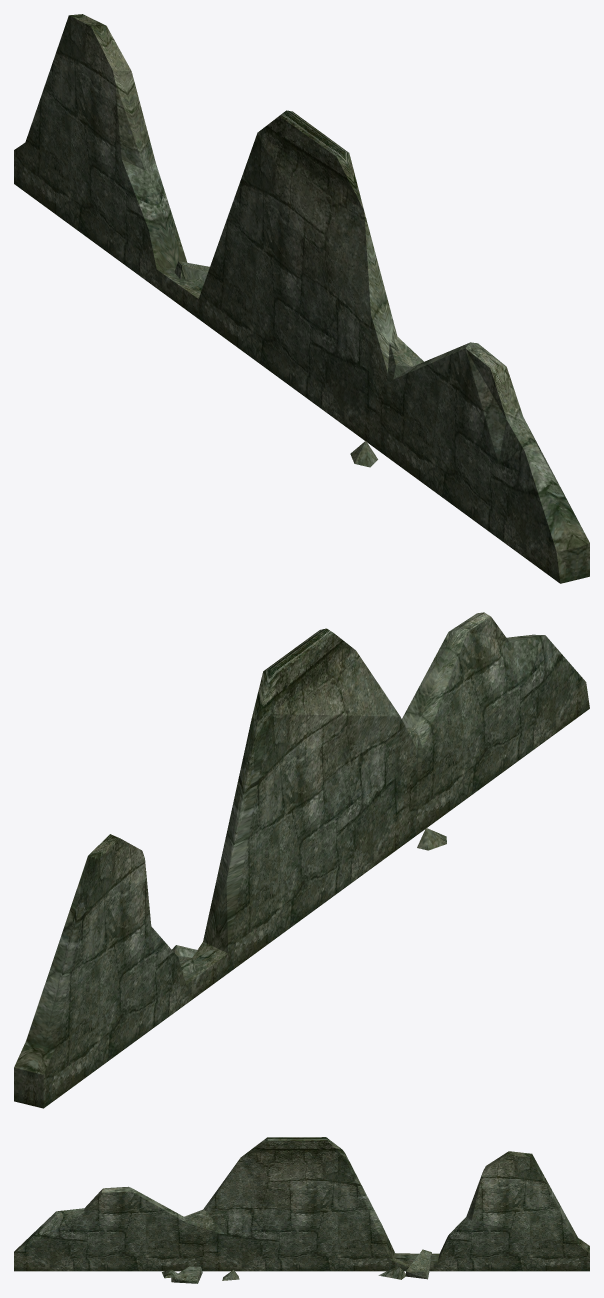
Rendered from thm_dant_jedi_wall_1_l2.fbx.
3 renders of one model, top to bottom at view 1: azimuth 30°, elevation 25°; view 2: azimuth 150°, elevation 25°; view 3: azimuth 270°, elevation 25°, orthographic. The views are drawn at different scales.
Parts seen in each view (by area): view 1: mesh_node; view 2: mesh_node; view 3: mesh_node.
Boxes of the visible parts, <box> form: mesh_node: <box>14,14,589,583</box>; mesh_node: <box>14,612,589,1108</box>; mesh_node: <box>14,1137,589,1283</box>.
Bounding box in the file's own units: 1.85 × 4.06 × 16.
